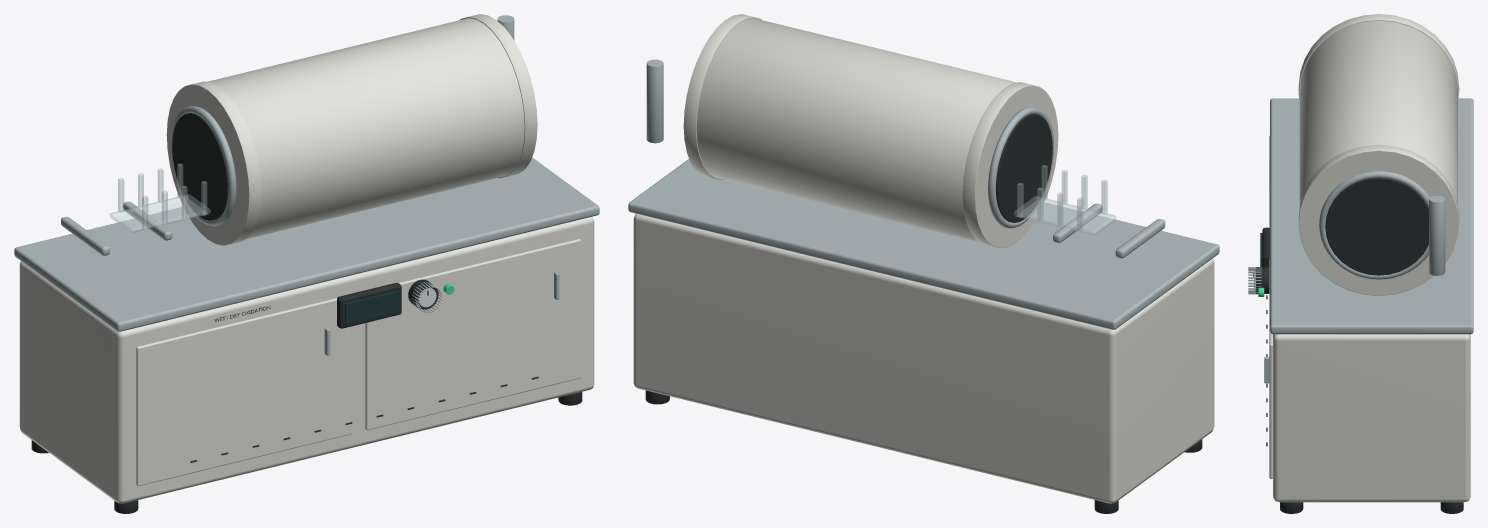
The model's file is furnace.glb.
3 renders of one model, left to right at view 1: azimuth 30°, elevation 25°; view 2: azimuth 150°, elevation 25°; view 3: azimuth 270°, elevation 25°, orthographic. The views are drawn at different scales.
Parts seen in each view (by area): view 1: Equipment_furnace_Ceramic ivory, Shell_Ceramic ivory, Equipment_furnace_Brushed stainless, Equipment_furnace_Knurled graphite, Carriage.002_Quartz inspection, LCD.003; view 2: Equipment_furnace_Ceramic ivory, Shell_Ceramic ivory, Equipment_furnace_Brushed stainless, Equipment_furnace_Knurled graphite, Carriage.002_Quartz inspection; view 3: Equipment_furnace_Ceramic ivory, Equipment_furnace_Brushed stainless, Shell_Ceramic ivory, Equipment_furnace_Knurled graphite, Knob_main.003.
Part boxes in pixels (x1,y1,x2,y2): Equipment_furnace_Ceramic ivory: (19, 14, 594, 503); Shell_Ceramic ivory: (207, 18, 524, 239); Equipment_furnace_Brushed stainless: (14, 15, 599, 355); Equipment_furnace_Knurled graphite: (31, 113, 582, 513); Carriage.002_Quartz inspection: (109, 163, 210, 232); LCD.003: (345, 290, 399, 325); Equipment_furnace_Ceramic ivory: (633, 14, 1214, 503); Shell_Ceramic ivory: (696, 18, 1017, 241); Equipment_furnace_Brushed stainless: (628, 59, 1219, 329); Equipment_furnace_Knurled graphite: (645, 114, 1202, 513); Carriage.002_Quartz inspection: (1014, 165, 1116, 235); Equipment_furnace_Ceramic ivory: (1269, 14, 1470, 502); Equipment_furnace_Brushed stainless: (1248, 98, 1473, 383); Shell_Ceramic ivory: (1299, 20, 1457, 205); Equipment_furnace_Knurled graphite: (1253, 161, 1463, 513); Knob_main.003: (1255, 267, 1269, 293).
Bounding box in the file's own units: 2.33 × 1.63 × 0.9685.
